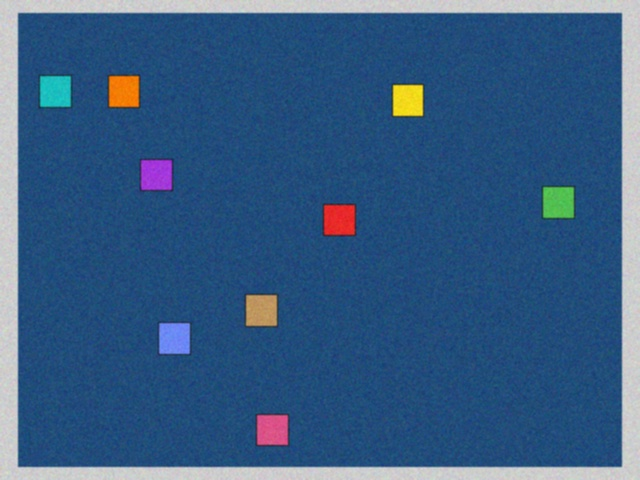block: (39, 76, 85, 115), (108, 76, 150, 115), (530, 187, 575, 220), (159, 318, 198, 355), (388, 85, 424, 124), (141, 159, 180, 194), (257, 405, 290, 446), (246, 291, 280, 326), (323, 204, 355, 236)
